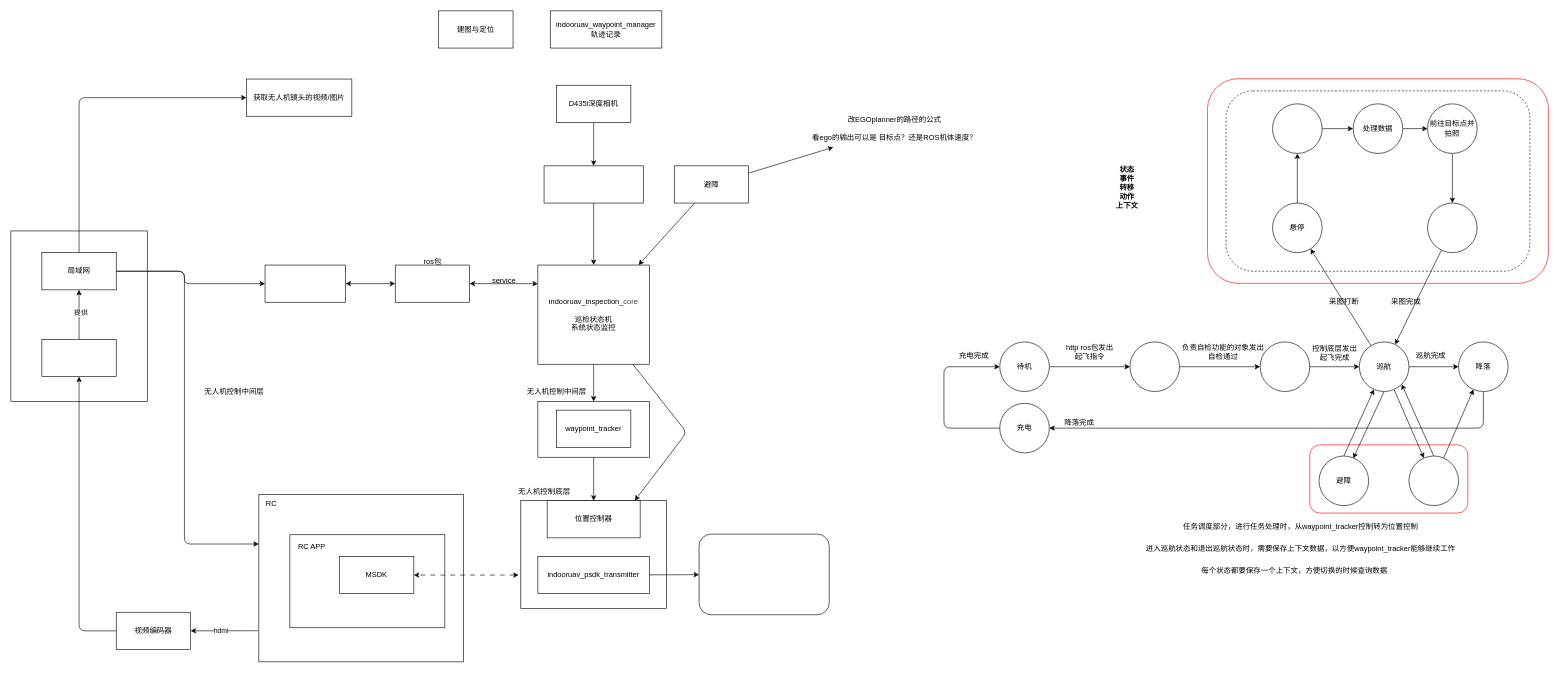
This 1559x673 diagram has some shape labels left out. Each missing label, with the centre of its shape:
http通讯中间层: (x=432, y=283)
indooruav_target_manager 视觉与 目标定位: (x=593, y=184)
上位机: (x=305, y=283)
异常: (x=1433, y=480)
起飞: (x=1285, y=366)
起飞自检: (x=1154, y=366)
路由器: (x=78, y=358)
返回巡航点: (x=1452, y=227)
通过psdk与msdk的透传来实现： 1.起飞 2.降落 3.飞行运动控制 4.云台控制 5.相机控制 6.无人机端数据订阅: (x=763, y=574)
采集数据: (x=1297, y=128)
